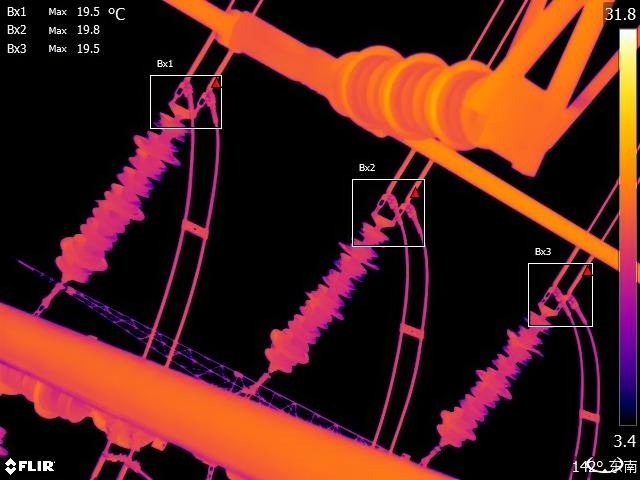clamp: (378, 183, 422, 228), (176, 74, 220, 114), (543, 274, 583, 316)
insulator: (56, 107, 189, 290), (261, 217, 392, 372), (430, 305, 557, 456)
post insulator: (316, 35, 502, 152)
